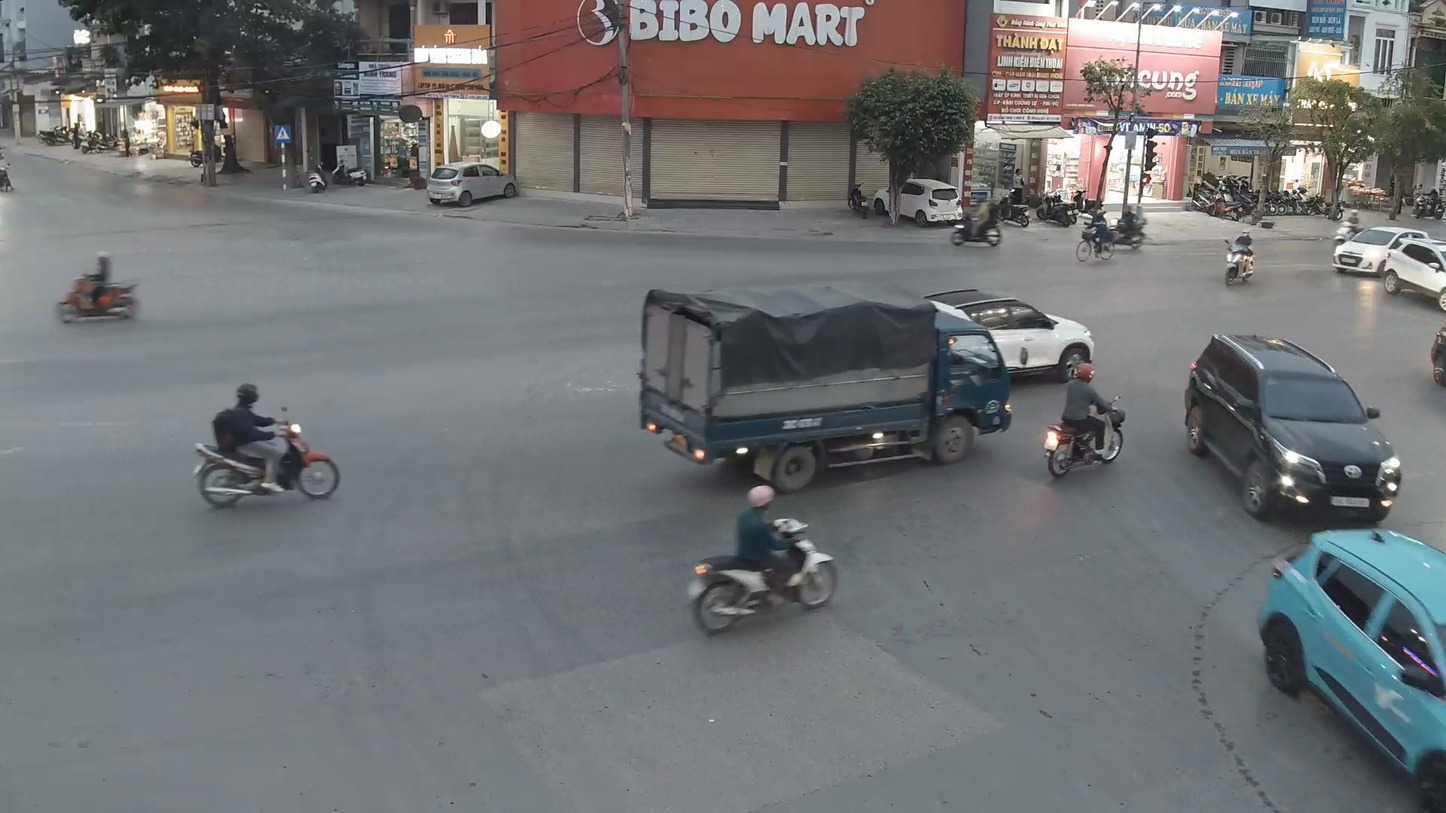car: (1255, 525, 1445, 812), (1182, 332, 1403, 521), (924, 289, 1096, 383), (1332, 225, 1442, 277), (1383, 228, 1445, 311), (426, 161, 520, 210)
motorbike: (687, 482, 839, 634), (192, 381, 341, 508), (1042, 362, 1129, 480), (54, 251, 142, 324), (1074, 208, 1117, 264), (1223, 227, 1258, 287)
truck: (636, 285, 1014, 486)
